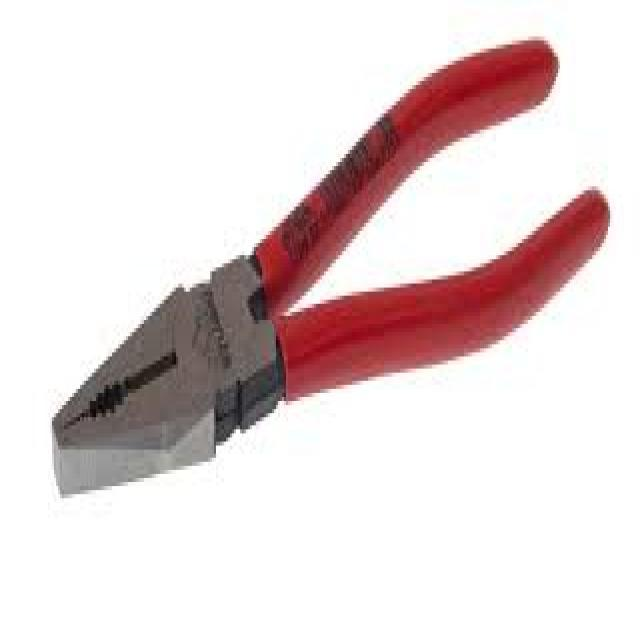pliers: (38, 19, 622, 510)
